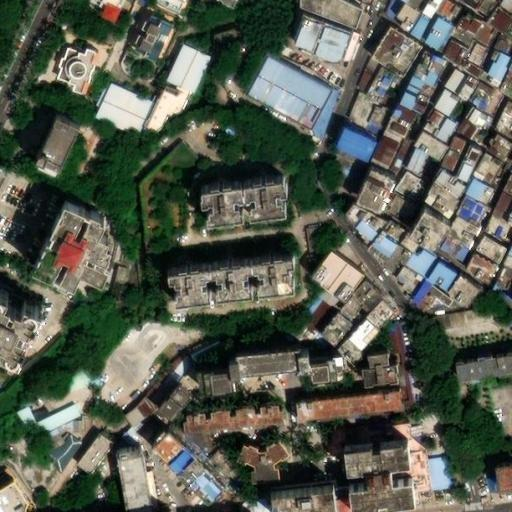building: (175, 253, 301, 310), (41, 207, 115, 295), (246, 56, 332, 130), (157, 437, 229, 512), (353, 447, 421, 512), (205, 178, 292, 225), (302, 385, 409, 420), (189, 402, 293, 437), (99, 88, 156, 141), (0, 295, 40, 364), (314, 250, 365, 300), (36, 119, 80, 175), (169, 50, 214, 102), (236, 443, 290, 486), (373, 29, 421, 76), (61, 52, 106, 102), (346, 96, 392, 142), (330, 427, 395, 459), (299, 24, 348, 66), (129, 407, 170, 455), (432, 178, 474, 223), (119, 456, 152, 512), (329, 151, 369, 197), (150, 90, 190, 136), (140, 25, 181, 69), (425, 308, 494, 334), (24, 413, 86, 441), (298, 292, 339, 333), (458, 356, 512, 387), (356, 172, 393, 216), (375, 135, 412, 178), (412, 212, 450, 253), (245, 357, 304, 383), (456, 40, 492, 82), (87, 443, 124, 483), (370, 69, 405, 110), (415, 287, 462, 317), (380, 245, 417, 283), (410, 86, 446, 125), (97, 0, 139, 33), (468, 155, 506, 191), (357, 215, 391, 255), (375, 353, 412, 389), (337, 127, 376, 161), (387, 192, 424, 227), (435, 28, 469, 64), (160, 391, 194, 426), (424, 60, 457, 96), (302, 352, 342, 381), (429, 117, 463, 151), (149, 379, 182, 414), (444, 240, 480, 272), (199, 375, 238, 404), (395, 112, 427, 147), (466, 83, 499, 116), (453, 221, 487, 253), (322, 312, 354, 345), (360, 290, 394, 321), (401, 272, 430, 308), (207, 17, 243, 46), (357, 62, 384, 100), (192, 340, 226, 370), (460, 112, 490, 146), (455, 281, 488, 311), (470, 255, 501, 286), (476, 237, 509, 266), (0, 485, 35, 512), (280, 496, 339, 512), (410, 254, 442, 283), (467, 23, 499, 52), (356, 322, 385, 353), (483, 215, 512, 246), (463, 202, 493, 231), (315, 282, 346, 310), (405, 11, 433, 42), (398, 174, 427, 203), (424, 141, 455, 168), (447, 143, 473, 175), (449, 75, 477, 104), (474, 185, 502, 213), (437, 270, 466, 297), (440, 95, 466, 125), (432, 5, 460, 32), (488, 136, 512, 167), (428, 462, 451, 494), (171, 362, 197, 389), (343, 340, 370, 366), (373, 310, 400, 334), (491, 266, 512, 296), (164, 0, 194, 21), (494, 42, 512, 75), (496, 107, 512, 143), (81, 377, 105, 401), (491, 196, 512, 223), (338, 301, 362, 324), (409, 152, 431, 177), (421, 24, 443, 48), (393, 429, 418, 450), (493, 70, 512, 97), (239, 496, 270, 512), (222, 0, 250, 17), (0, 474, 19, 497), (449, 10, 468, 33), (342, 0, 370, 15), (465, 0, 491, 16), (385, 0, 403, 23), (496, 14, 512, 38), (499, 473, 512, 498), (492, 288, 512, 303), (501, 176, 512, 201), (234, 370, 248, 388)
